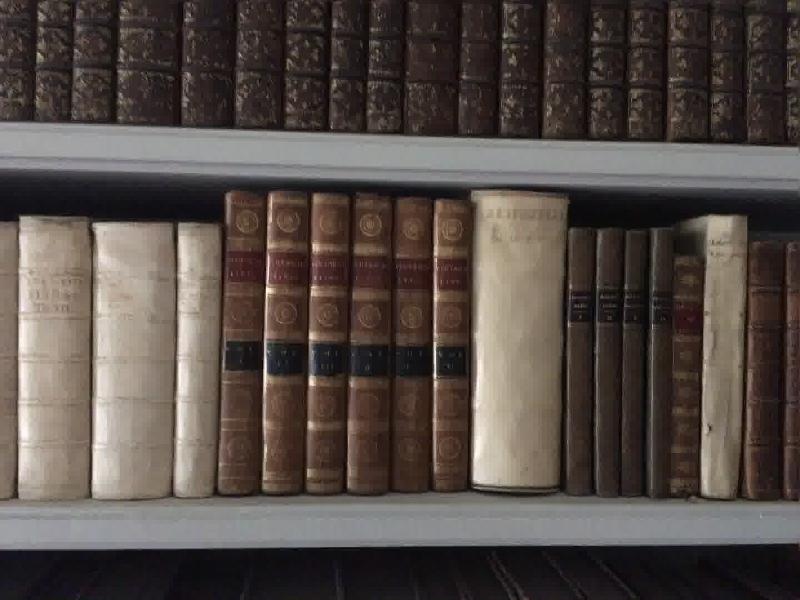Kk4-14: (475, 187, 565, 494)
Kk4-15_16: (567, 222, 622, 503)
Kk4-17_18: (625, 229, 671, 500)
Kk4-19: (670, 250, 704, 502)
Kk4-20: (703, 212, 743, 503)
Kk4-21_22: (747, 233, 800, 499)
Kk4-3_7: (2, 212, 217, 505)
Kk4-8_13: (219, 187, 472, 495)
